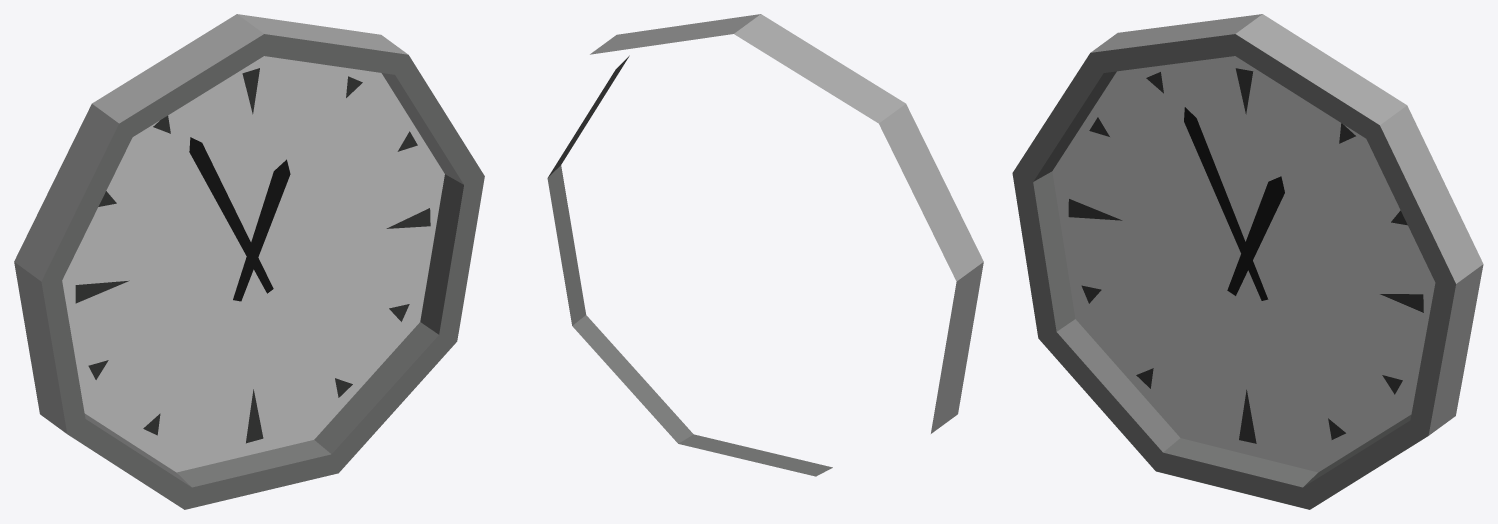
File: Clock1.glb
3 views of the same model, side by side, from view 1: azimuth 30°, elevation 25°; view 2: azimuth 150°, elevation 25°; view 3: azimuth 330°, elevation 25° (orthographic).
Visible parts, largest first — view 1: Cube, Cube.001, Cube.002; view 2: Cube; view 3: Cube, Cube.001, Cube.002.
Part boxes in pixels (<box>): Cube: <box>14,14,484,509</box>; Cube.001: <box>189,137,273,293</box>; Cube.002: <box>233,159,290,301</box>; Cube: <box>547,14,983,476</box>; Cube: <box>1012,14,1483,509</box>; Cube.001: <box>1184,107,1268,300</box>; Cube.002: <box>1227,176,1284,295</box>.
Size of the model in its own units: 0.4924 by 0.4854 by 0.0526.
Materials: 1 (1 with a texture image).
